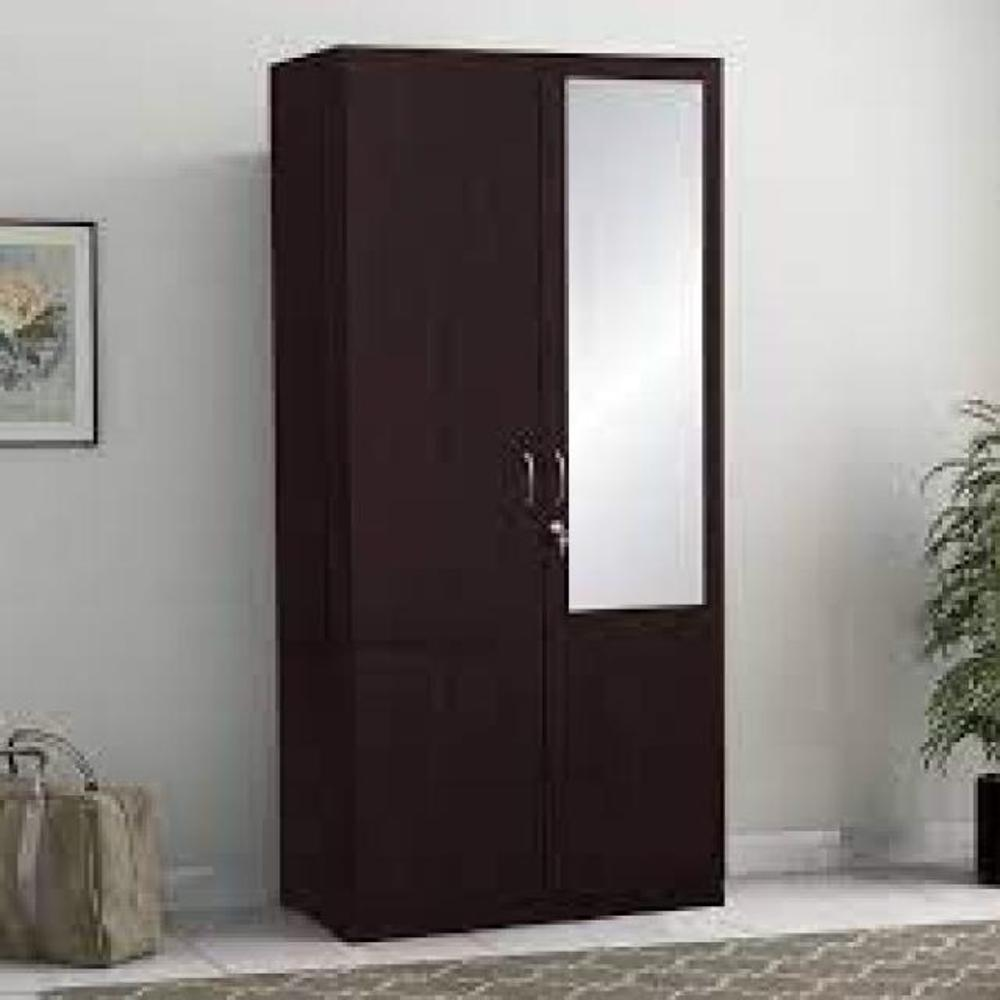cabinet: (258, 26, 740, 936)
